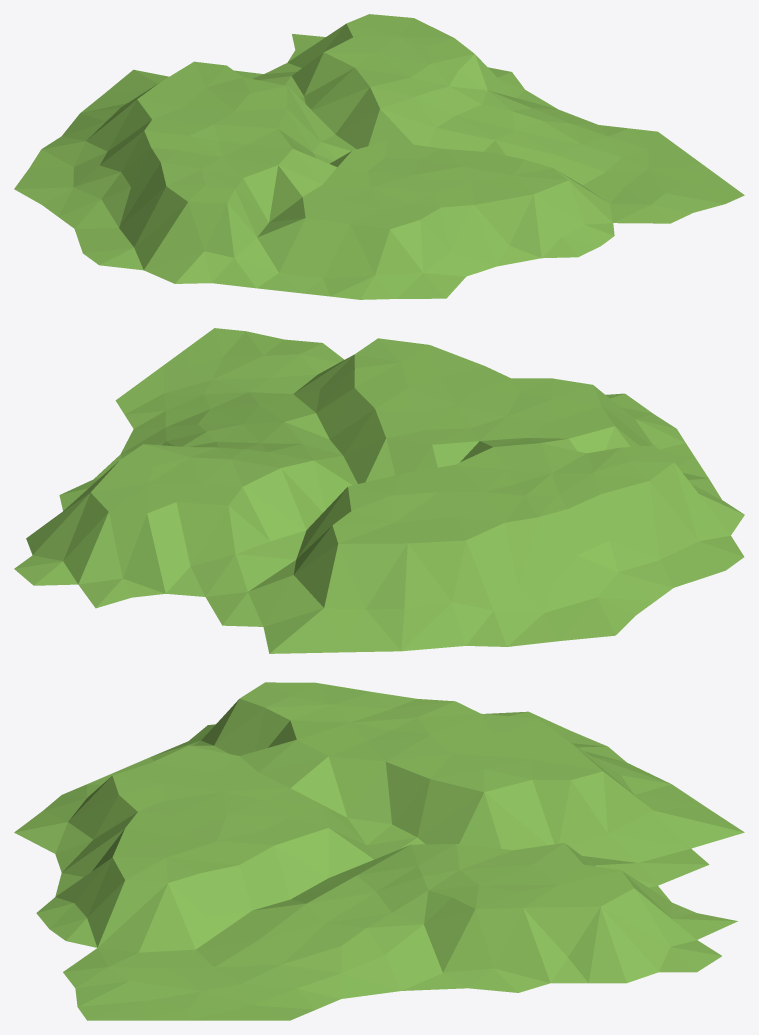
File: MT_Mountain_M_c_18_LOD.fbx
The picture shows the model from 3 angles, top to bottom: view 1: azimuth 30°, elevation 25°; view 2: azimuth 150°, elevation 25°; view 3: azimuth 270°, elevation 25°; orthographic projection. The views are drawn at different scales.
Visible parts, largest first — view 1: MT_Mountain_M_c_18_LOD0; view 2: MT_Mountain_M_c_18_LOD0; view 3: MT_Mountain_M_c_18_LOD0.
Part boxes in pixels (left/top/right/bottom): MT_Mountain_M_c_18_LOD0: left=14, top=14, right=744, bottom=299; MT_Mountain_M_c_18_LOD0: left=14, top=328, right=744, bottom=653; MT_Mountain_M_c_18_LOD0: left=14, top=682, right=744, bottom=1020.
Size of what is drawn, in the model's own units: 4609 by 453 by 4493.
